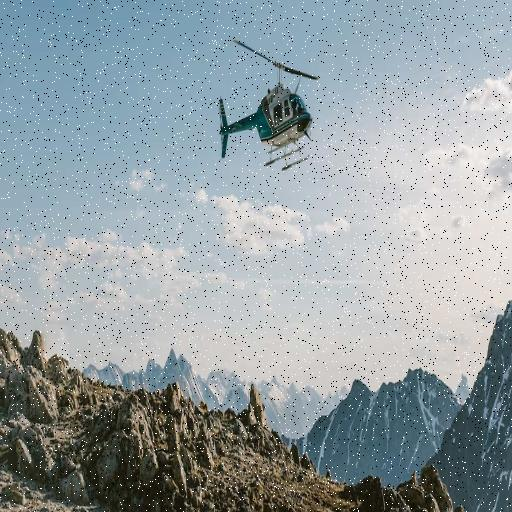helicopter: (218, 31, 318, 179)
